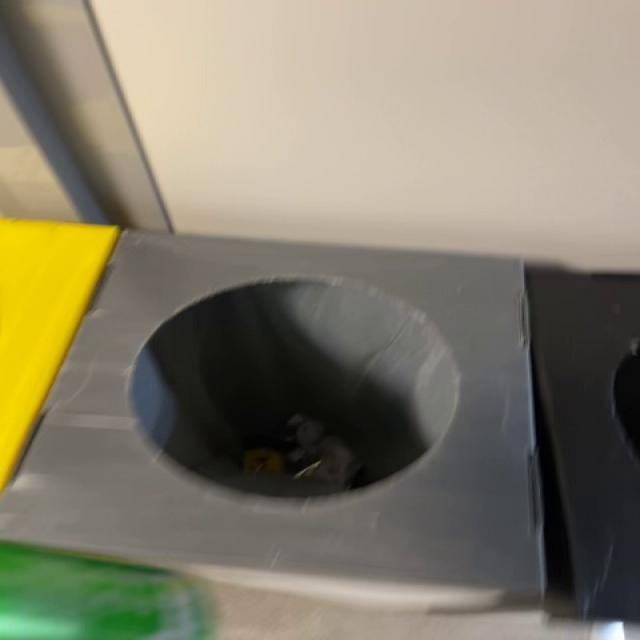Bin: (3, 232, 544, 602)
Metal: (0, 545, 209, 640)
